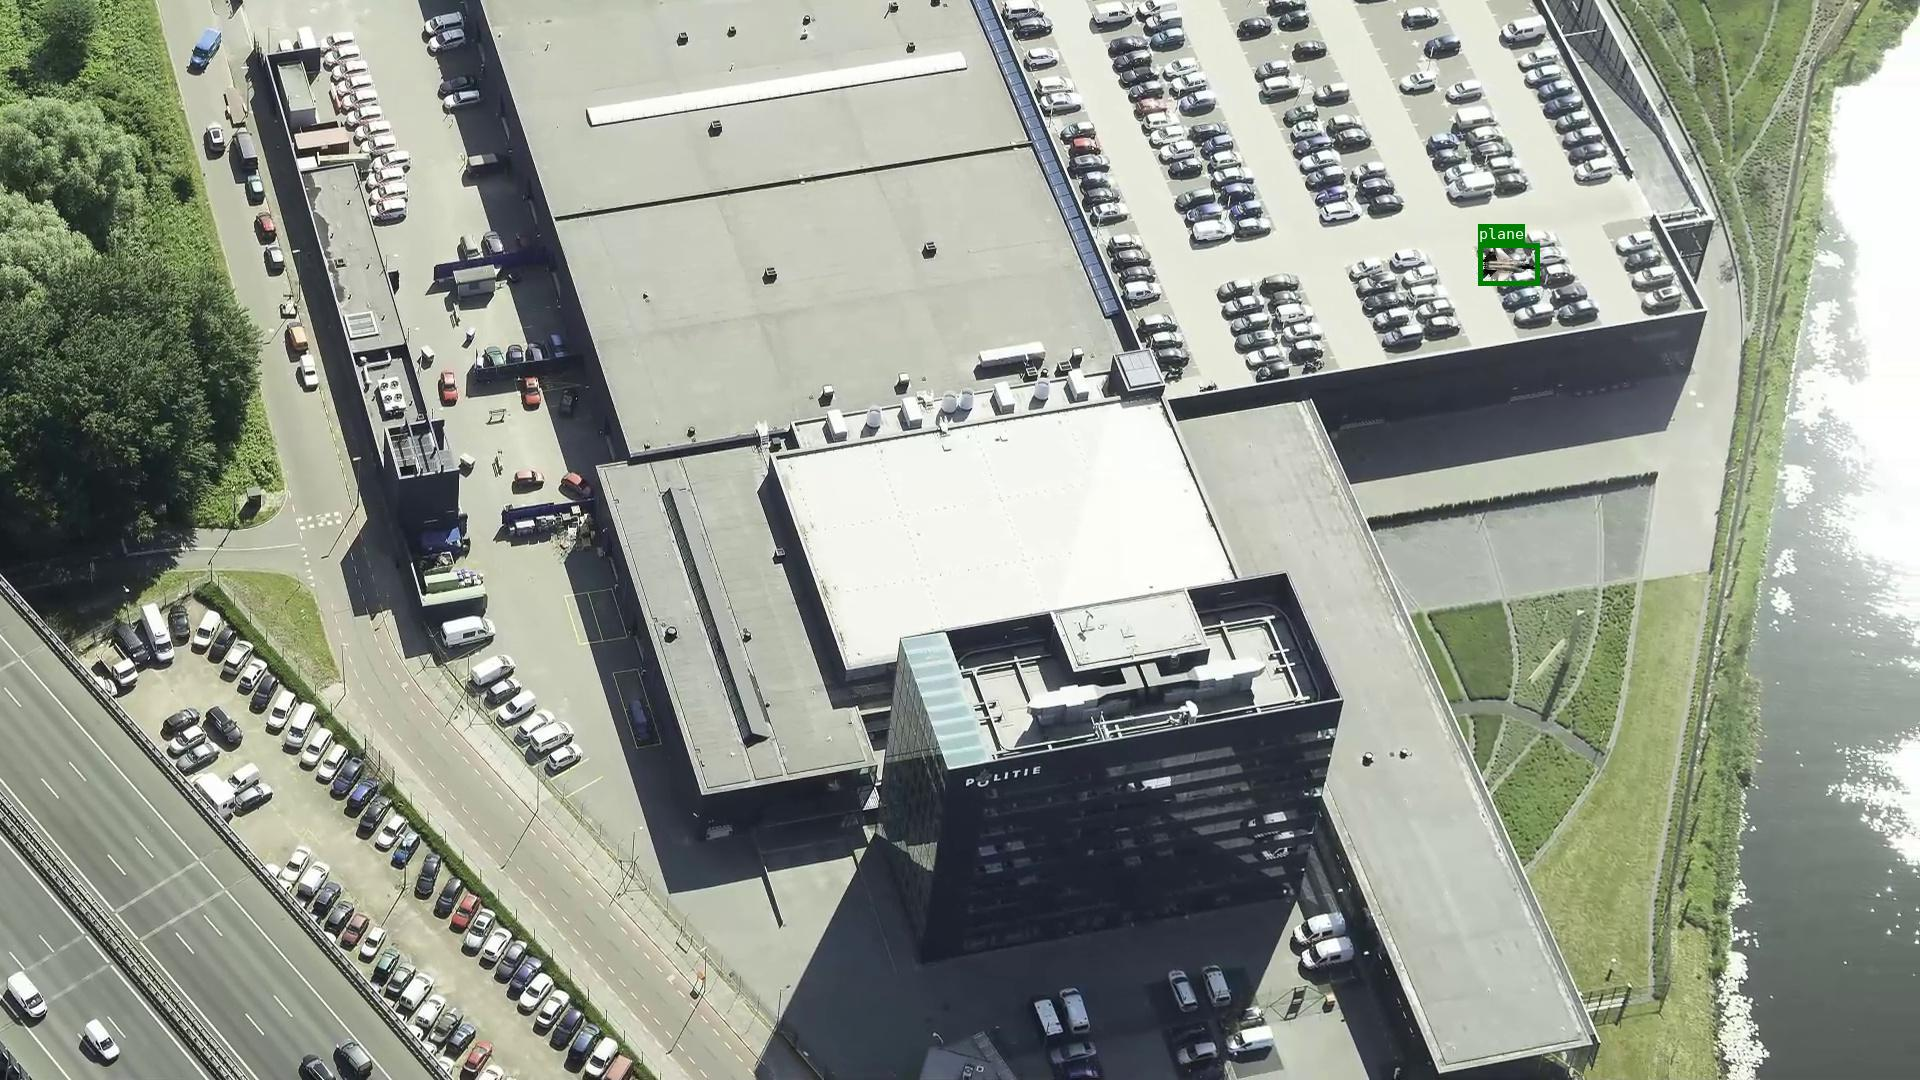plane: (1478, 243, 1539, 285)
